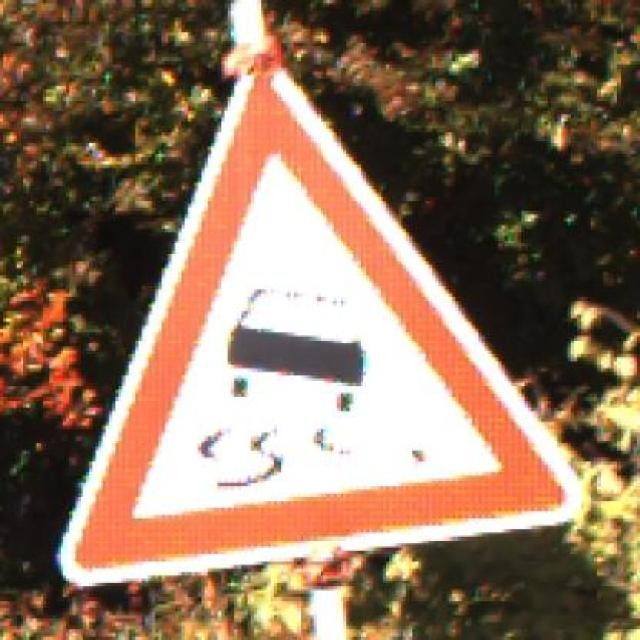Slippery Road Ahead: (43, 53, 594, 590)
